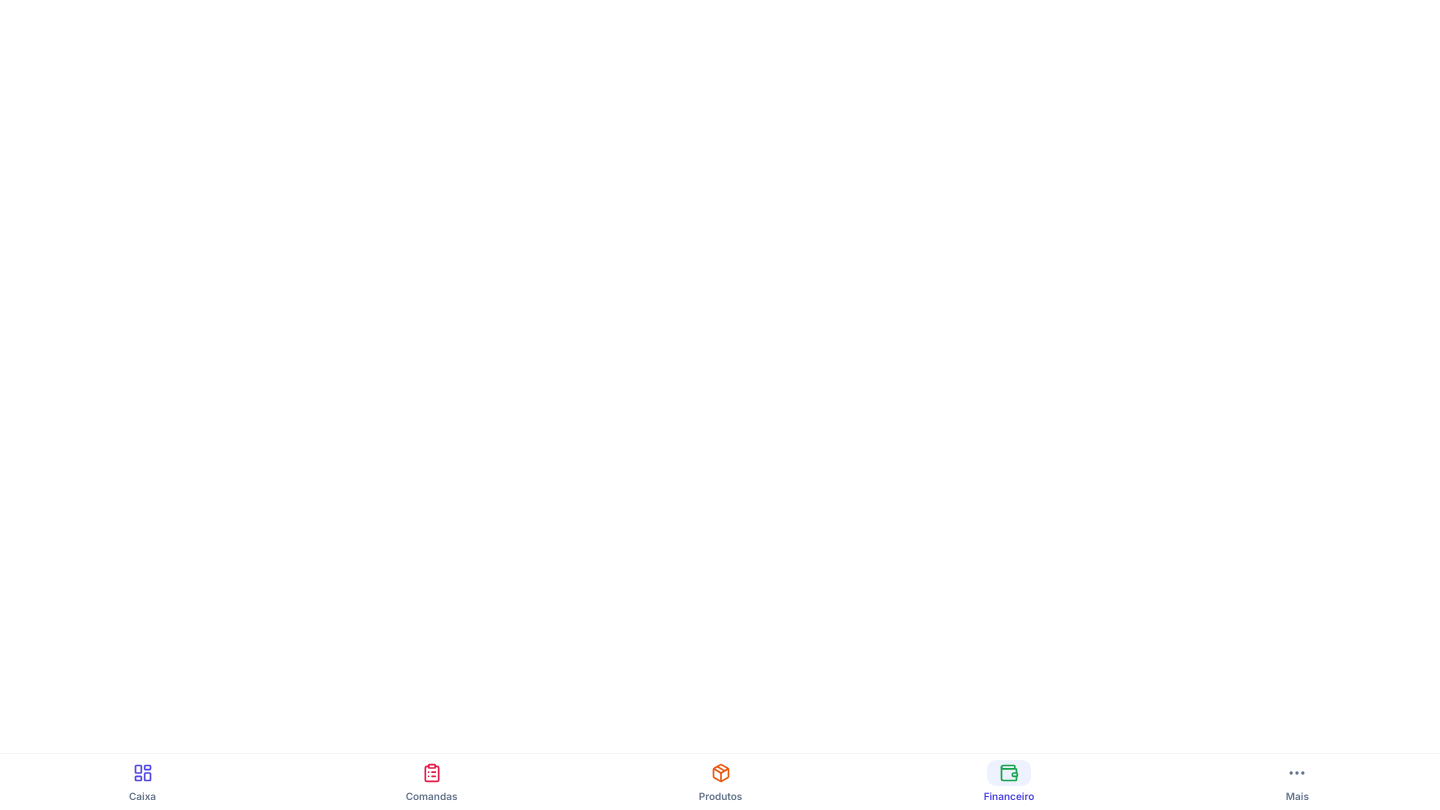
BottomNav (RF03–RF05, RN01, RN02) › T11 — clicking Mais opens drawer
This screenshot has width=1440, height=810.
Click the button with aria-label "mais opções". click: [1297, 782]
box: x1=1263 y1=754 x2=1331 y2=809
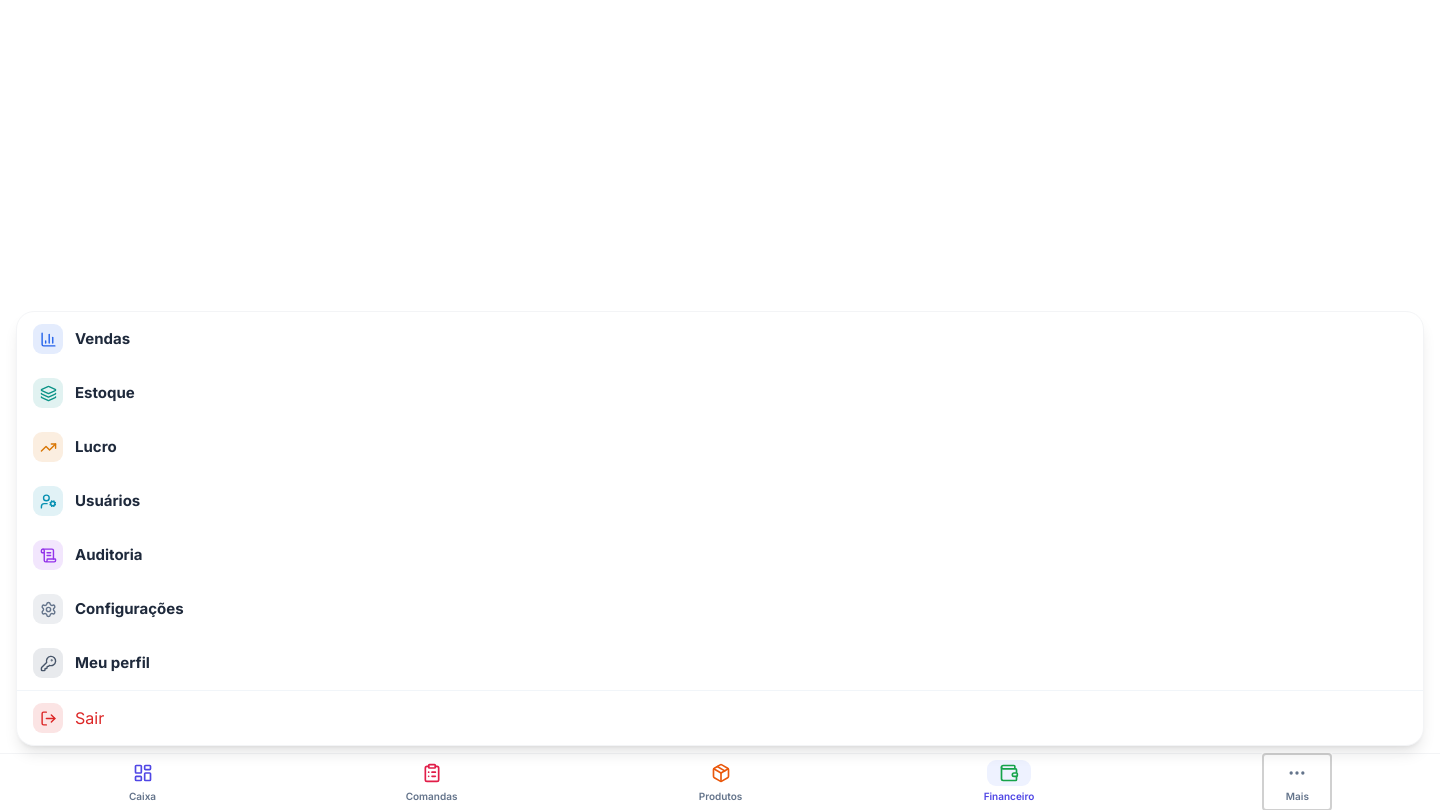
Expected: the menu item "Vendas" is shown, x1=33 y1=324 x2=130 y2=354
